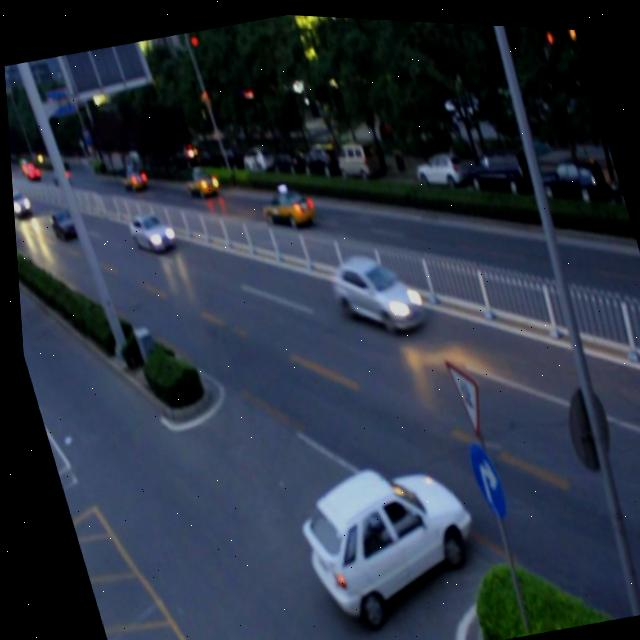car: (282, 446, 483, 623), (320, 239, 427, 342), (255, 180, 314, 230), (123, 205, 173, 256), (180, 163, 220, 201), (44, 206, 79, 241), (116, 160, 149, 195)
